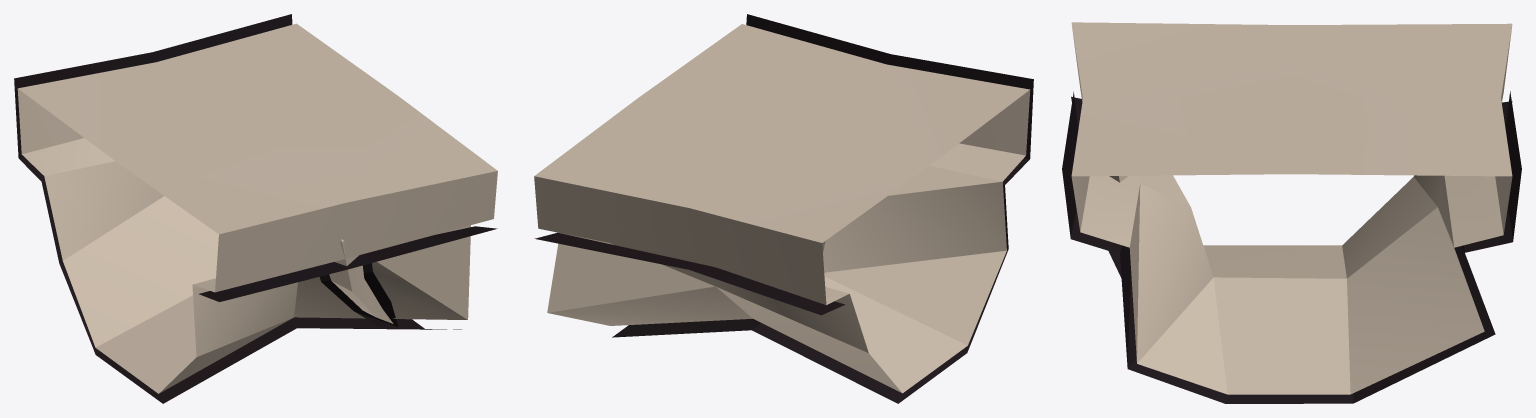
File: SM_Trail_Deck_04.fbx
3 views of the same model, side by side, from view 1: azimuth 30°, elevation 25°; view 2: azimuth 150°, elevation 25°; view 3: azimuth 270°, elevation 25° (orthographic). The views are drawn at different scales.
Parts seen in each view (by area): view 1: SM_Trail_Deck_04; view 2: SM_Trail_Deck_04; view 3: SM_Trail_Deck_04.
Part boxes in pixels (box(x1,y1,x2,y2)): SM_Trail_Deck_04: box(14, 14, 497, 403); SM_Trail_Deck_04: box(534, 14, 1033, 403); SM_Trail_Deck_04: box(1062, 22, 1521, 403).
Size of the model in its own units: 4 by 3.03 by 5.22.
